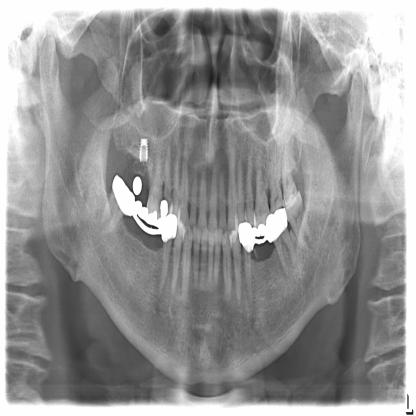Bicon: (137, 132, 151, 168)
